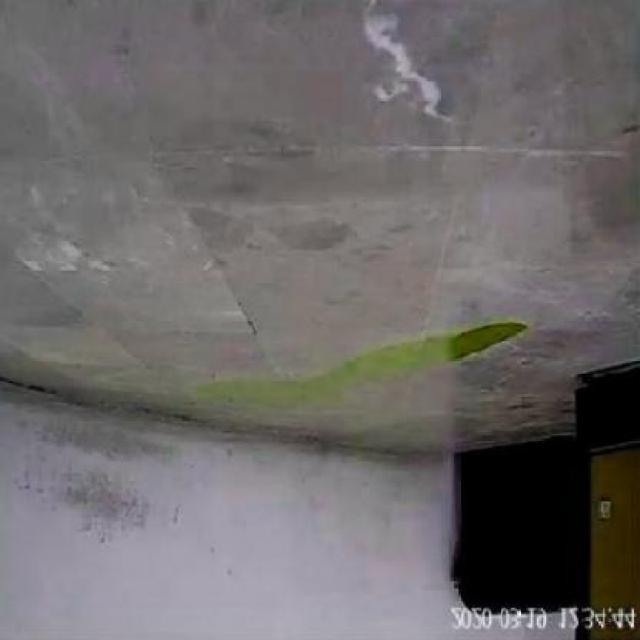spillage: (202, 319, 530, 404)
